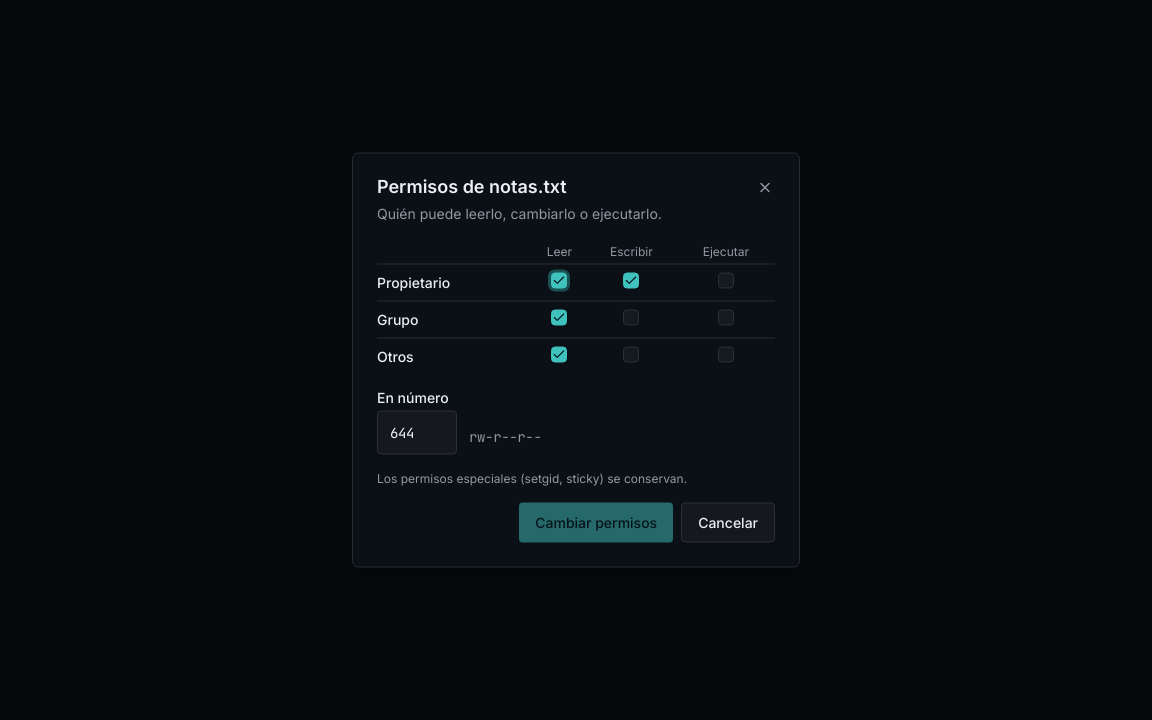
Test: DialogoDePermisos › una casilla cambia el número y la forma rwx
Click the checkbox named "Grupo: leer" at [559, 318], box [551,310,567,326]
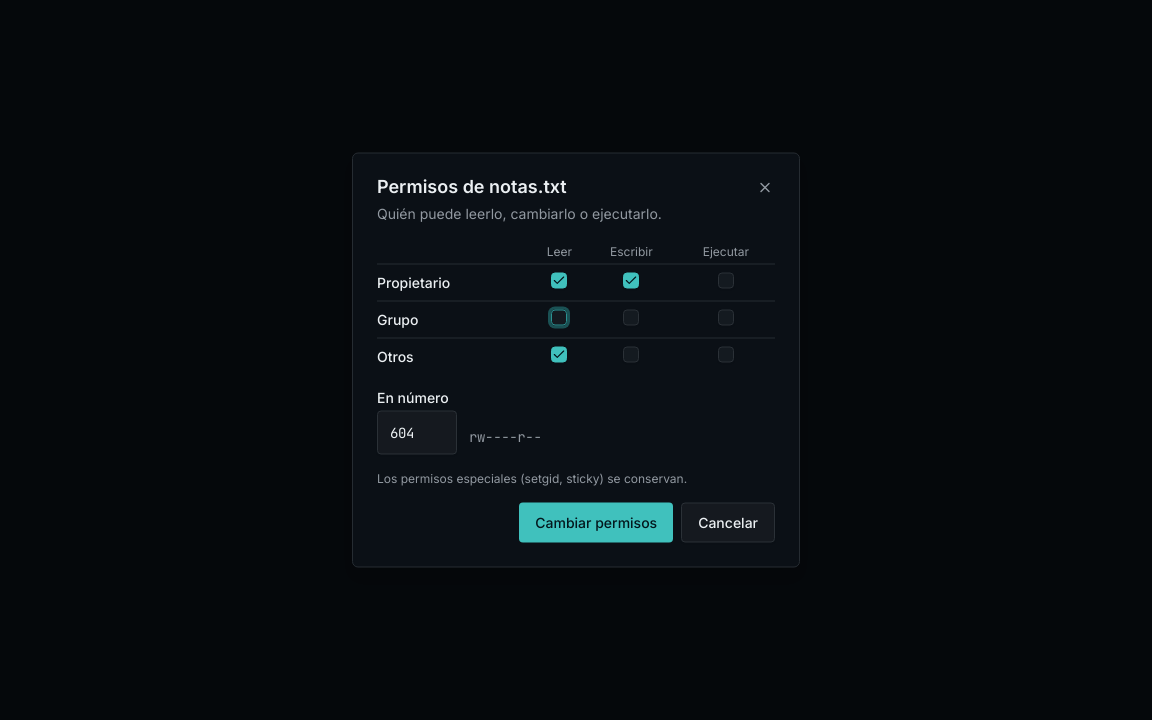
Click the checkbox named "Otros: leer" at [559, 354], box [551,346,567,362]
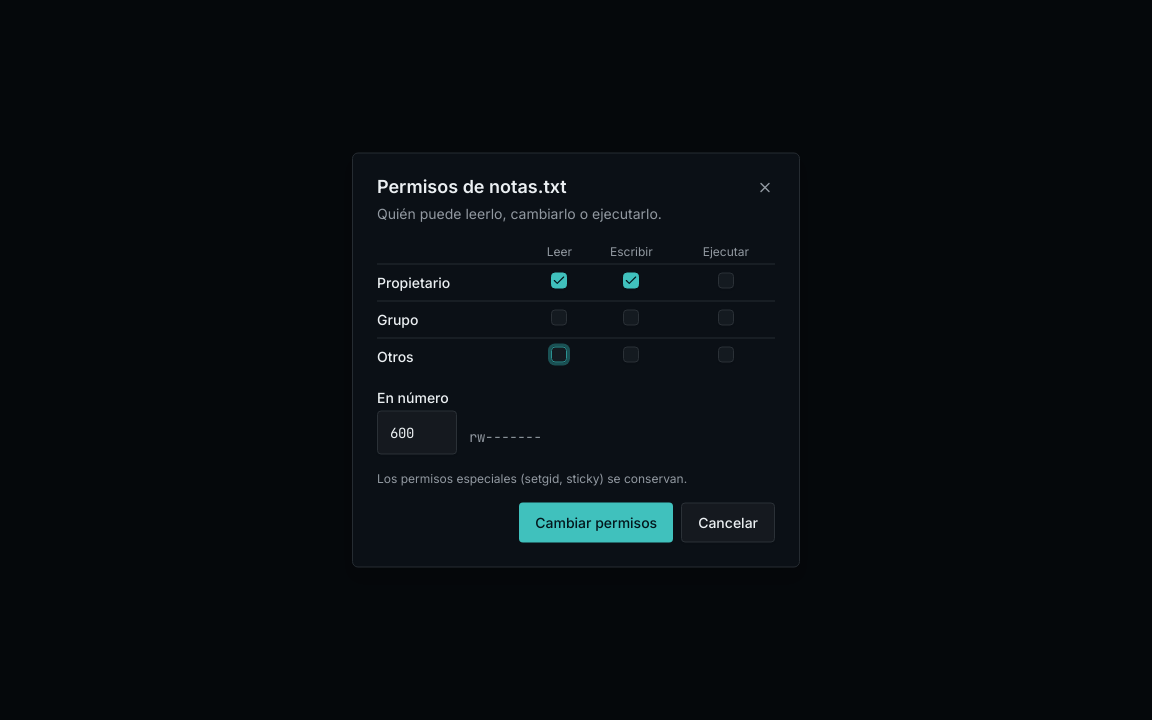
Expected: the field labelled "En número" holds "600", [377,410,457,454]
Expected: the text "rw-------" is shown, [469,426,542,454]
